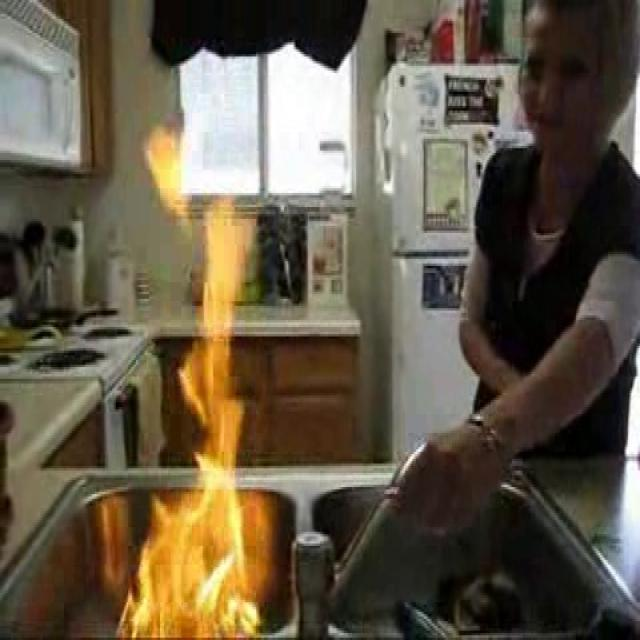fire: (132, 124, 253, 640)
